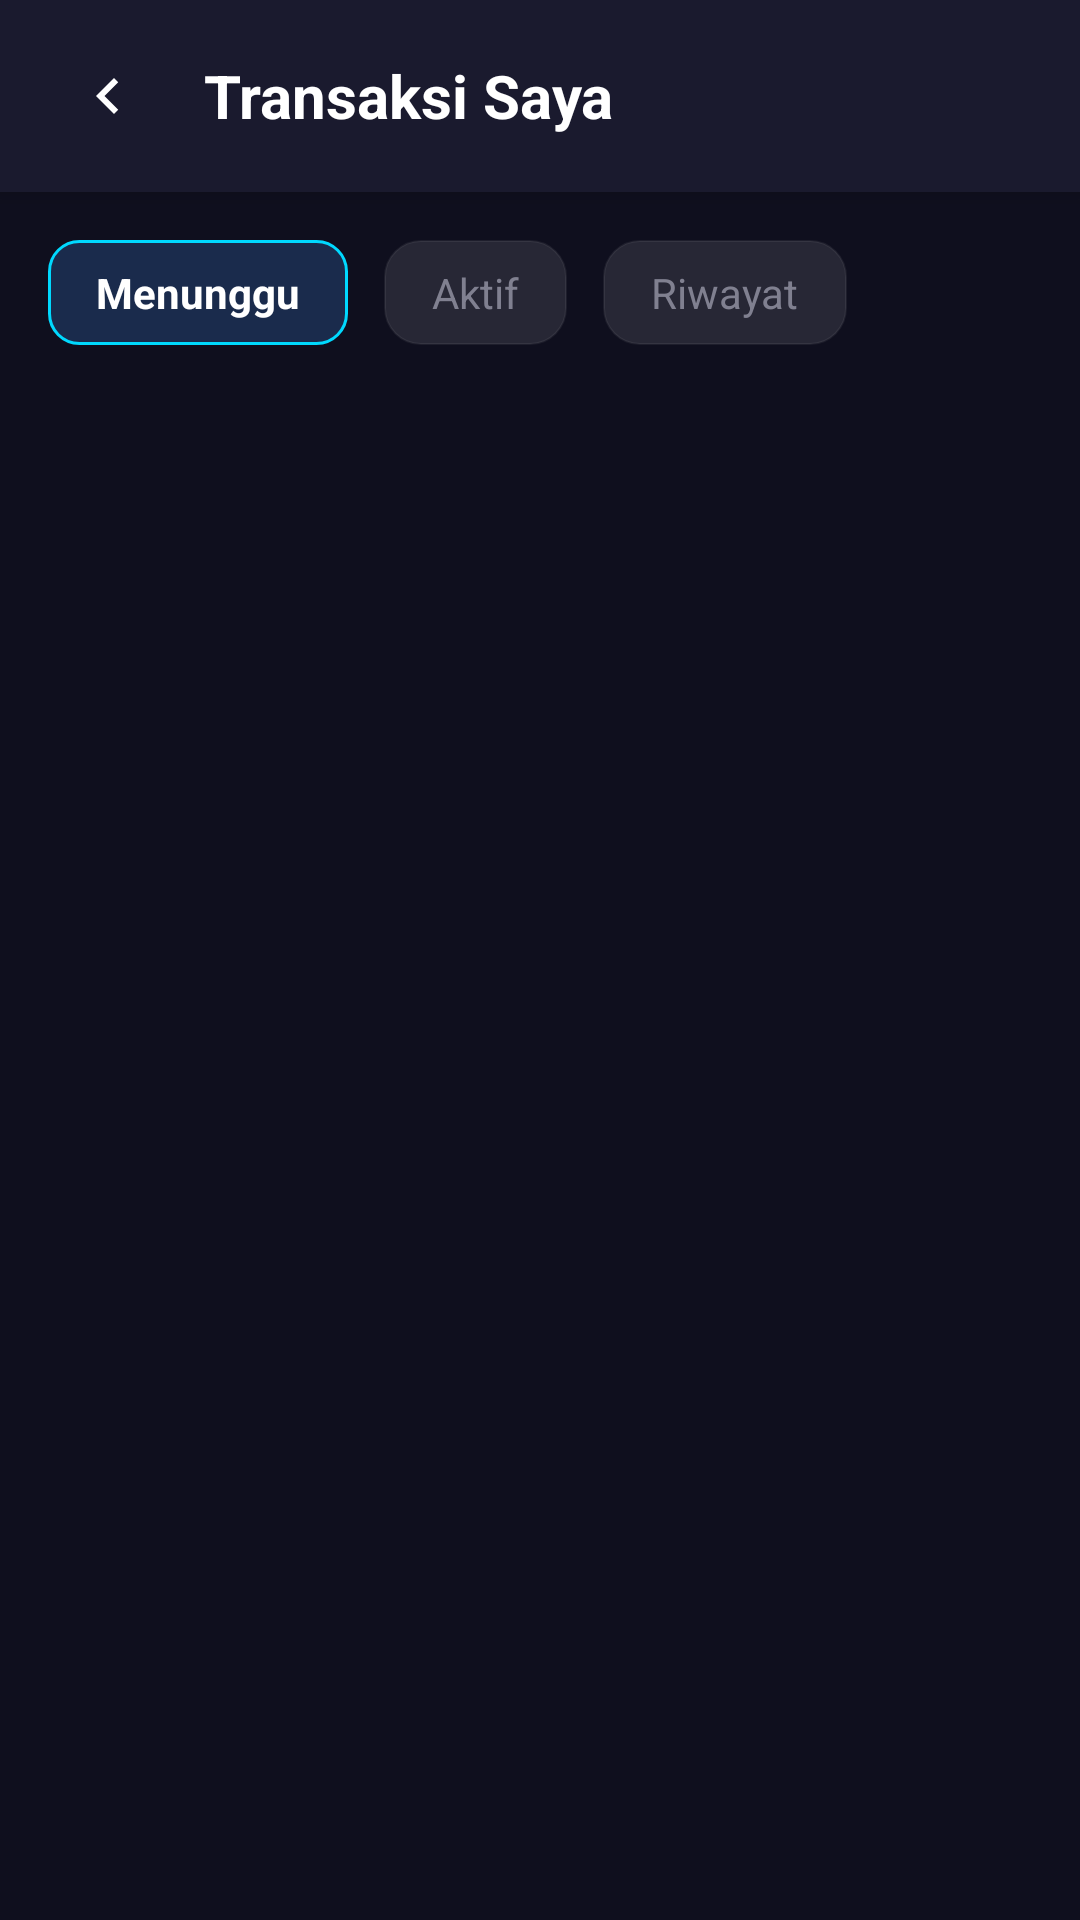

Icon click points for this 1080w x 1920h phone screenshot, format (x,y):
back arrow: (107,96)
